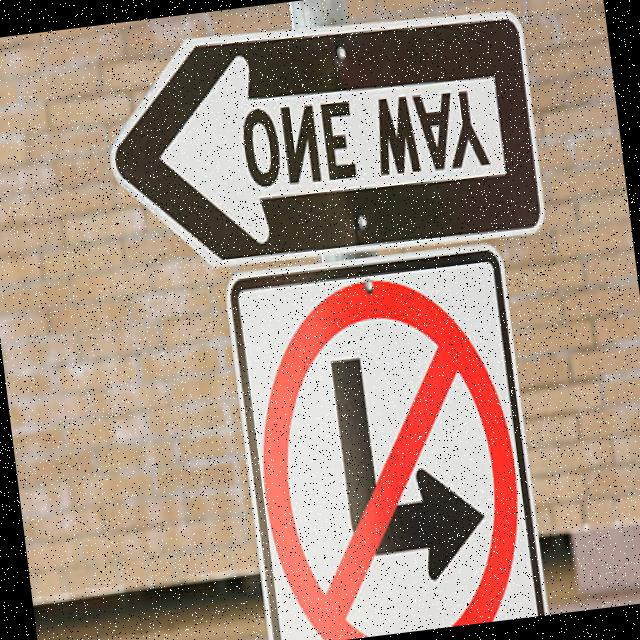do_not_turn_right: (241, 265, 533, 640)
